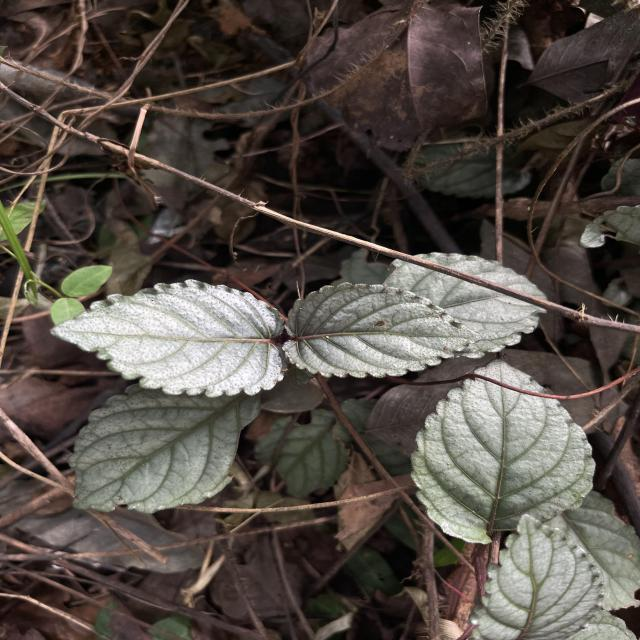Hemigraphis colorata: (406, 354, 600, 546), (46, 274, 286, 400), (64, 378, 264, 516), (278, 278, 487, 381), (466, 509, 608, 640)
